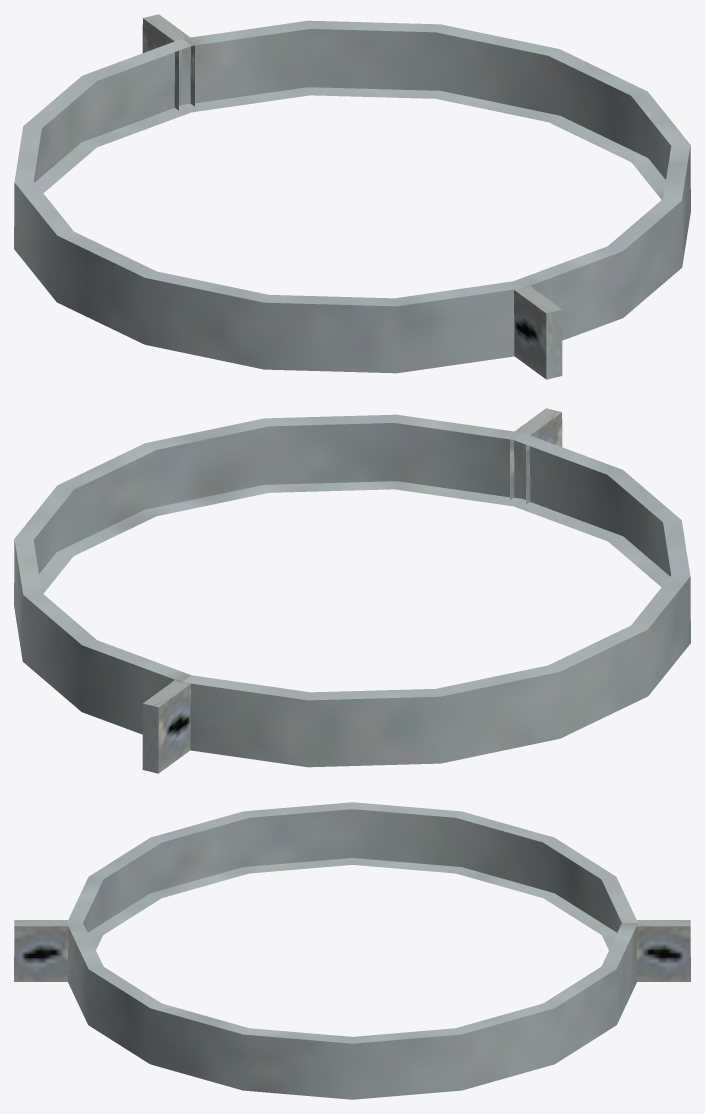
The model's file is belt.glb.
3 renders of one model, top to bottom at view 1: azimuth 30°, elevation 25°; view 2: azimuth 150°, elevation 25°; view 3: azimuth 270°, elevation 25°, orthographic. The views are drawn at different scales.
Visible parts, largest first — view 1: belt; view 2: belt; view 3: belt.
Part boxes in pixels (x1,y1,x2,y2): belt: (14,14,690,379); belt: (14,408,690,773); belt: (14,802,690,1099).
Size of the model in its own units: 0.3711 by 0.04 by 0.439.
Materials: 1 (1 with a texture image).
